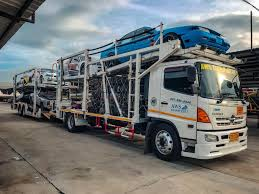truck: (143, 58, 249, 162)
